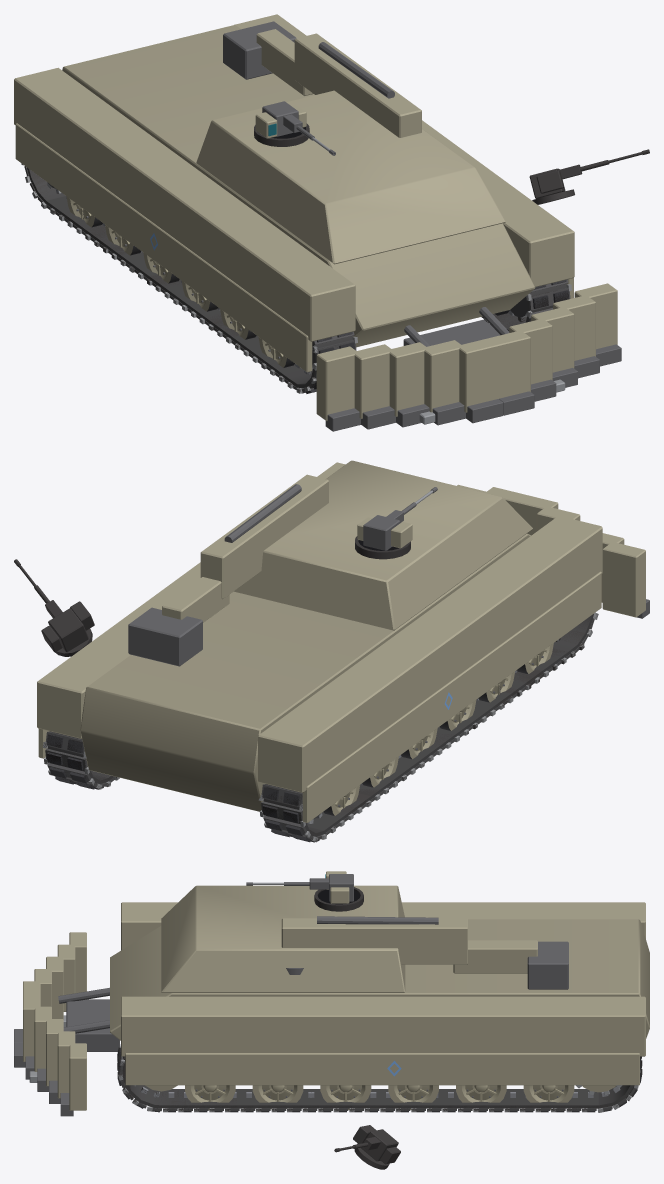
File: mineClearer__k600_rhino.glb
3 views of the same model, one above another, from view 1: azimuth 30°, elevation 25°; view 2: azimuth 150°, elevation 25°; view 3: azimuth 270°, elevation 25° (orthographic). The views are drawn at different scales.
Parts seen in each view (by area): view 1: Hull_Mesh, Track_L_Mesh, Wreck, Track_R_Mesh, Turret_Mesh; view 2: Hull_Mesh, Track_L_Mesh, Wreck, Track_R_Mesh, Turret_Mesh; view 3: Hull_Mesh, Track_R_Mesh, Wreck, Wheel_R3_Mesh, Wheel_R0_Mesh, Wheel_R4_Mesh, Wheel_R2_Mesh, Wheel_R1_Mesh, Wheel_R5_Mesh, Turret_Mesh, Gun_Mesh.
Boxes of the visible parts, x1,y1,x2,y2 form: Hull_Mesh: (14,14,621,431); Track_L_Mesh: (21,163,357,393); Wreck: (25,123,649,392); Track_R_Mesh: (484,279,571,331); Turret_Mesh: (255,101,306,138); Hull_Mesh: (37,460,649,822); Track_L_Mesh: (258,612,598,842); Wreck: (14,536,598,842); Track_R_Mesh: (43,731,119,789); Turret_Mesh: (357,515,412,550); Hull_Mesh: (14,885,649,1116); Track_R_Mesh: (117,1045,642,1112); Wreck: (117,887,642,1169); Wheel_R3_Mesh: (320,1085,371,1109); Wheel_R0_Mesh: (523,1085,574,1109); Wheel_R4_Mesh: (252,1085,303,1109); Wheel_R2_Mesh: (388,1085,438,1109); Wheel_R1_Mesh: (456,1085,506,1109); Wheel_R5_Mesh: (185,1085,235,1109); Turret_Mesh: (325,871,353,903); Gun_Mesh: (246,878,328,889).
Size of what is drawn, in the model's own units: 6.57 by 2.51 by 8.64.
